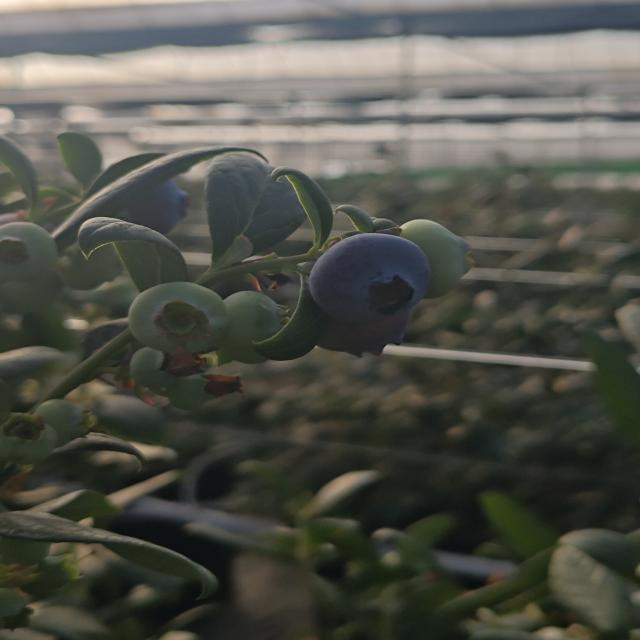ripe: (305, 230, 440, 326), (302, 292, 418, 362), (130, 175, 200, 238)
